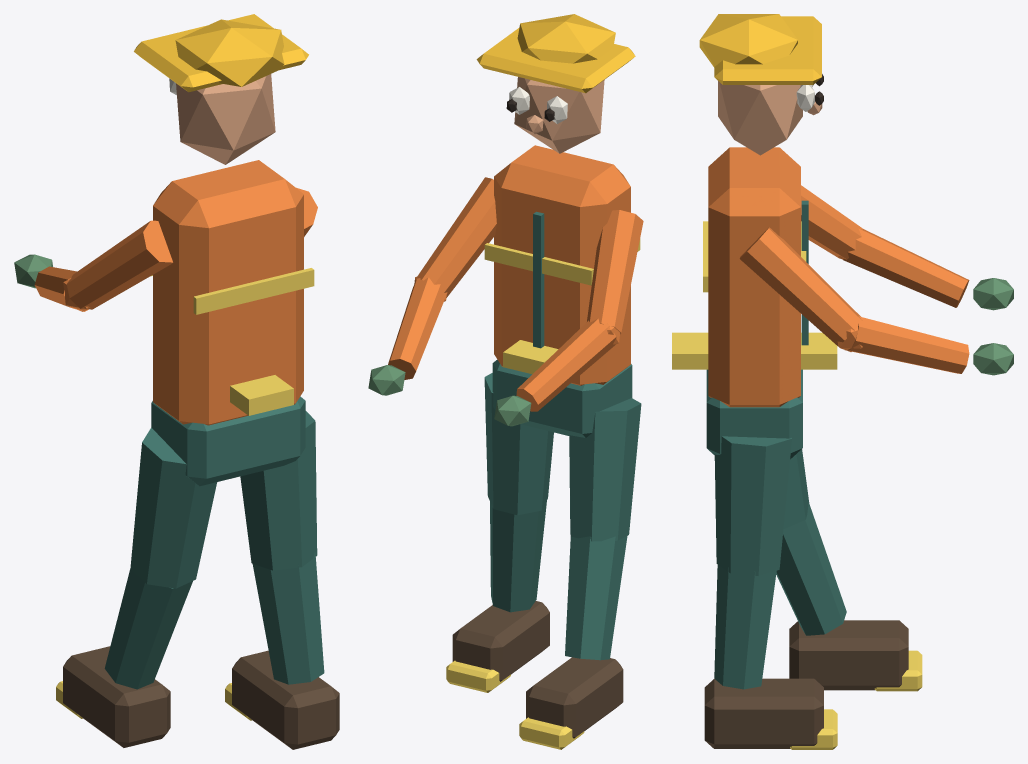
File: personaje_trabajo.glb
3 views of the same model, side by side, from view 1: azimuth 30°, elevation 25°; view 2: azimuth 150°, elevation 25°; view 3: azimuth 270°, elevation 25° (orthographic). The views are drawn at different scales.
Parts seen in each view (by area): view 1: Chaqueta, Muslo_Izq, Caderas, Muslo_Der, Bota_Der, Bota_Izq, Pantorrilla_Der, Cara, Pantorrilla_Izq, Casco, Manga_Superior_Izq, Visera_Casco (+4 smaller); view 2: Chaqueta, Muslo_Izq, Pantorrilla_Izq, Muslo_Der, Bota_Izq, Bota_Der, Pantorrilla_Der, Caderas, Manga_Superior_Izq, Manga_Superior_Der, Visera_Casco, Cara (+10 smaller); view 3: Chaqueta, Muslo_Der, Bota_Der, Bota_Izq, Pantorrilla_Der, Manga_Superior_Der, Pantorrilla_Izq, Cara, Manga_Antebrazo_Izq, Casco, Caderas, Manga_Antebrazo_Der (+10 smaller).
Part boxes in pixels (x1,y1,x2,y2): Chaqueta: [153, 160, 303, 425]; Muslo_Izq: [130, 427, 217, 588]; Caderas: [151, 396, 305, 486]; Muslo_Der: [240, 411, 317, 570]; Bota_Der: [232, 650, 339, 749]; Bota_Izq: [63, 646, 170, 747]; Pantorrilla_Der: [252, 552, 324, 684]; Cara: [176, 74, 275, 164]; Pantorrilla_Izq: [104, 569, 192, 689]; Casco: [175, 19, 286, 86]; Manga_Superior_Izq: [66, 220, 172, 309]; Visera_Casco: [134, 14, 308, 92]; Chaqueta: [494, 145, 630, 385]; Muslo_Izq: [569, 398, 641, 541]; Pantorrilla_Izq: [565, 536, 627, 660]; Muslo_Der: [484, 373, 553, 515]; Bota_Izq: [526, 657, 623, 738]; Bota_Der: [452, 601, 549, 681]; Pantorrilla_Der: [490, 501, 546, 612]; Caderas: [492, 359, 632, 437]; Manga_Superior_Izq: [587, 210, 643, 334]; Manga_Superior_Der: [416, 177, 496, 297]; Visera_Casco: [476, 28, 635, 93]; Cara: [514, 77, 604, 153]; Chaqueta: [708, 147, 800, 407]; Muslo_Der: [714, 436, 791, 575]; Bota_Der: [704, 678, 823, 748]; Bota_Izq: [789, 620, 908, 690]; Pantorrilla_Der: [714, 565, 776, 689]; Manga_Superior_Der: [739, 227, 862, 346]; Pantorrilla_Izq: [776, 502, 846, 635]; Cara: [718, 81, 802, 155]; Manga_Antebrazo_Izq: [843, 228, 969, 307]; Casco: [699, 14, 797, 67]; Caderas: [706, 369, 802, 459]; Manga_Antebrazo_Der: [847, 316, 969, 373].
Bounding box in the file's own units: 0.6484 × 1.98 × 0.887.
